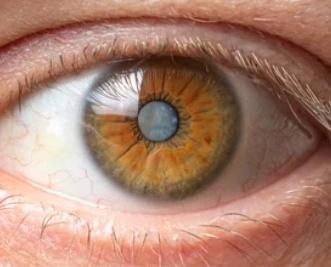eye: (81, 55, 243, 200)
